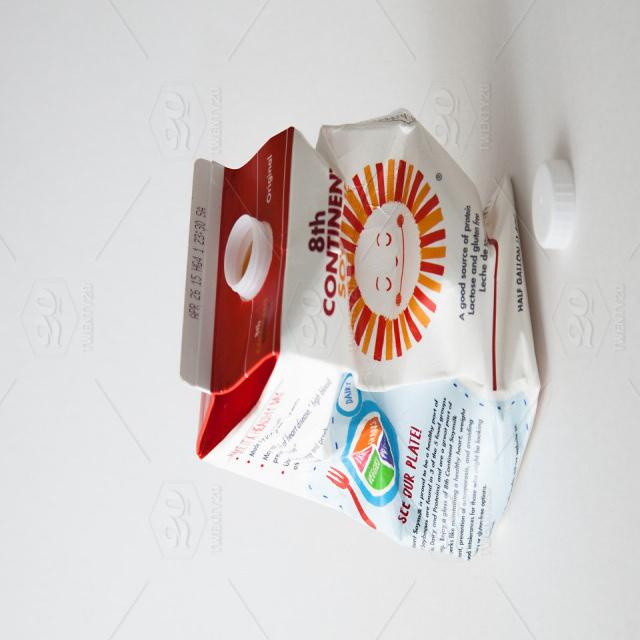non_white_jug: (176, 119, 538, 556)
